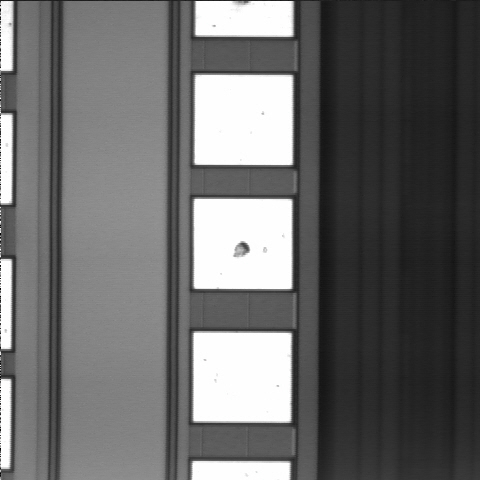pad: (195, 75, 293, 165), (194, 199, 292, 289), (193, 333, 291, 423)
